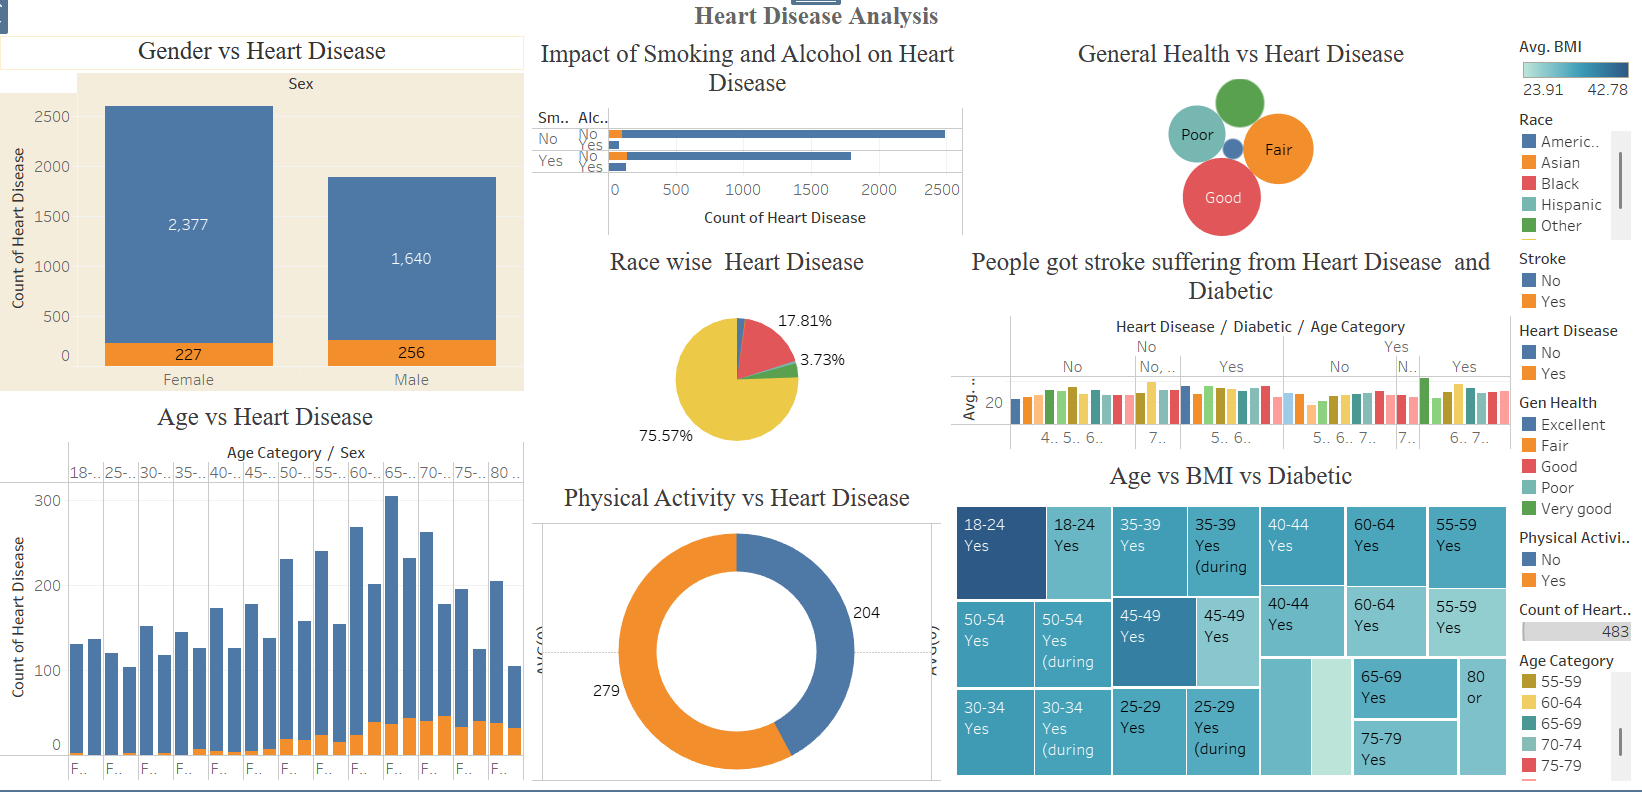

What the dashboard file says about the page in this screenshot:
{"tool":"tableau","page":{"name":"Dashboard 1","canvas":[1000,1000],"units":"permille","ordinal":0},"visuals":[{"type":"text","box":[4.8,10,990.3,40]},{"type":"worksheet","title":"Sheet 1","mark":"Automatic","rows":["HeartDisease"],"cols":["Sex"],"box":[4.8,49.9,321.2,453.2]},{"type":"worksheet","title":"Sheet 4","mark":"Automatic","rows":["Smoking","AlcoholDrinking"],"cols":["HeartDisease"],"box":[326.1,49.9,264.9,259.9]},{"type":"worksheet","title":"Sheet 7","mark":"Circle","box":[591,49.9,330.6,259.9]},{"type":"legend","title":"Sheet 9","param":"[federated.1i2q5n60d0xmh2131dguz1d71cfz].[avg:BMI:qk]","box":[921.5,49.9,73.6,91.1]},{"type":"legend","title":"Sheet 6","param":"[federated.1i2q5n60d0xmh2131dguz1d71cfz].[none:Race:nk]","box":[921.5,141.1,73.6,173.5]},{"type":"worksheet","title":"Sheet 6","mark":"Pie","box":[326.1,309.8,252.5,294.6]},{"type":"worksheet","title":"Sheet 10","mark":"Automatic","rows":["BMI"],"cols":["HeartDisease","Diabetic","AgeCategory"],"box":[578.6,309.8,342.9,267.2]},{"type":"legend","title":"Sheet 4","param":"[federated.1i2q5n60d0xmh2131dguz1d71cfz].[none:Stroke:nk]","box":[921.5,314.6,73.6,89.9]},{"type":"legend","title":"Sheet 1","param":"[federated.1i2q5n60d0xmh2131dguz1d71cfz].[none:HeartDisease:nk]","box":[921.5,404.5,73.6,89.9]},{"type":"legend","title":"Sheet 7","param":"[federated.1i2q5n60d0xmh2131dguz1d71cfz].[none:GenHealth:nk]","box":[921.5,494.4,73.6,168.5]},{"type":"worksheet","title":"Sheet 2","mark":"Automatic","rows":["HeartDisease"],"cols":["AgeCategory","Sex"],"box":[4.8,503.1,321.2,486.9]},{"type":"worksheet","title":"Sheet 9","mark":"Automatic","box":[578.6,577,342.9,413]},{"type":"worksheet","title":"Sheet 8","mark":"Pie","rows":["Calculation_2326109244876595201","Calculation_2326109244876619779"],"box":[326.1,604.5,252.5,385.6]},{"type":"legend","title":"Sheet 8","param":"[federated.1i2q5n60d0xmh2131dguz1d71cfz].[none:PhysicalActivity:nk]","box":[921.5,662.9,73.6,89.9]},{"type":"legend","title":"Sheet 8","param":"[federated.1i2q5n60d0xmh2131dguz1d71cfz].[cnt:HeartDisease:qk]","box":[921.5,752.8,73.6,63.7]},{"type":"legend","title":"Sheet 10","param":"[federated.1i2q5n60d0xmh2131dguz1d71cfz].[none:AgeCategory:nk]","box":[921.5,816.5,73.6,173.5]}]}

Visuals, with their boxes on the dashboard's canvas, which has no fixed pixel size, in thousandths of its width and height (x1, y1, x2, y2). These are canvas units, not pixel positions in the 1642x792 screenshot, which may show the page scaled, cropped or inside an application window:
text: [5,10,995,50]
"Sheet 1" worksheet: [5,50,326,503]
"Sheet 4" worksheet: [326,50,591,310]
"Sheet 7" worksheet (Circle marks): [591,50,922,310]
"Sheet 9" legend: [922,50,995,141]
"Sheet 6" legend: [922,141,995,315]
"Sheet 6" worksheet (Pie marks): [326,310,579,604]
"Sheet 10" worksheet: [579,310,922,577]
"Sheet 4" legend: [922,315,995,404]
"Sheet 1" legend: [922,404,995,494]
"Sheet 7" legend: [922,494,995,663]
"Sheet 2" worksheet: [5,503,326,990]
"Sheet 9" worksheet: [579,577,922,990]
"Sheet 8" worksheet (Pie marks): [326,604,579,990]
"Sheet 8" legend: [922,663,995,753]
"Sheet 8" legend: [922,753,995,816]
"Sheet 10" legend: [922,816,995,990]
